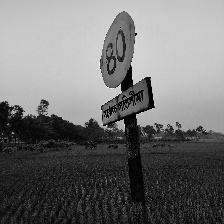Speed-limit: (99, 9, 154, 126)
